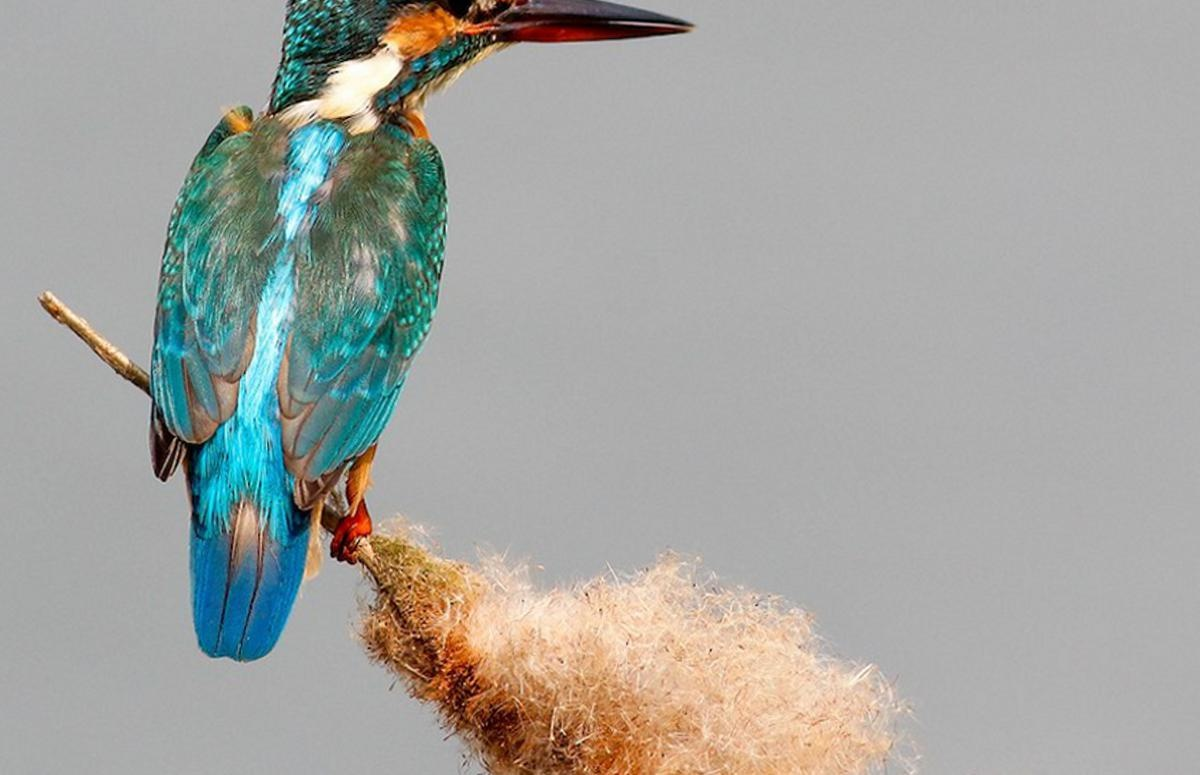kingfisher: (137, 1, 706, 660)
